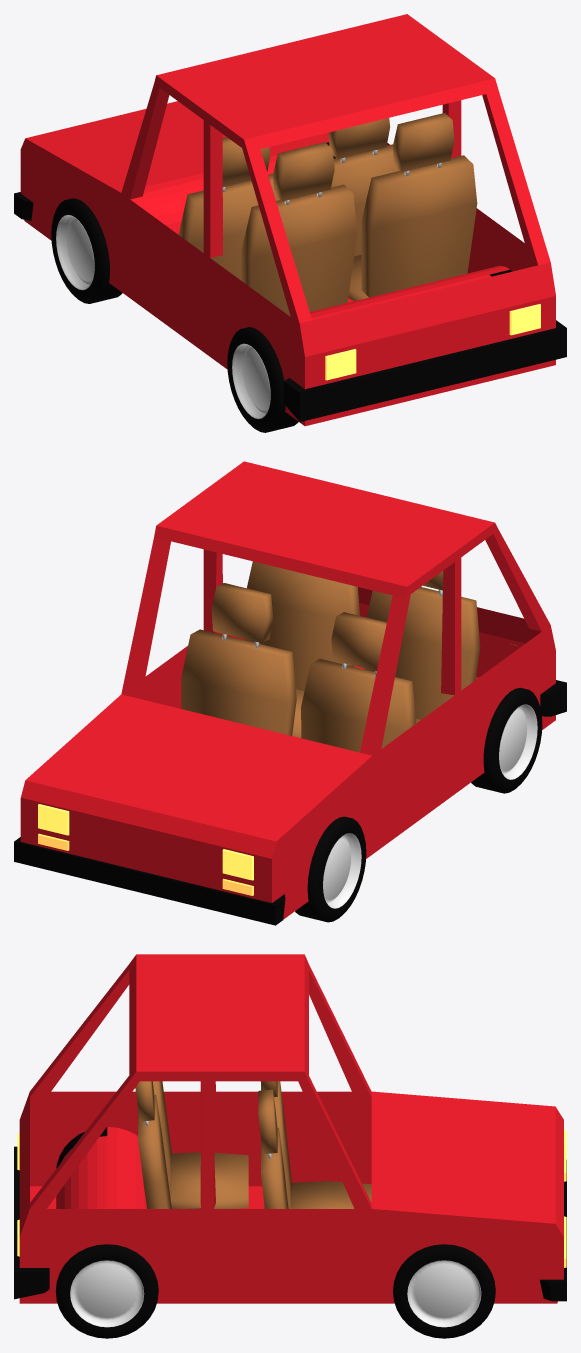
The model's file is car_1.fbx.
The picture shows the model from 3 angles, top to bottom: view 1: azimuth 30°, elevation 25°; view 2: azimuth 150°, elevation 25°; view 3: azimuth 270°, elevation 25°; orthographic projection. The views are drawn at different scales.
Parts seen in each view (by area): view 1: Cube.008; view 2: Cube.008; view 3: Cube.008.
Boxes of the visible parts, box(x1,y1,x2,y2) form: Cube.008: box(14, 14, 566, 432); Cube.008: box(14, 461, 566, 925); Cube.008: box(14, 954, 566, 1338).
Bounding box in the file's own units: 362 × 677 × 359.
